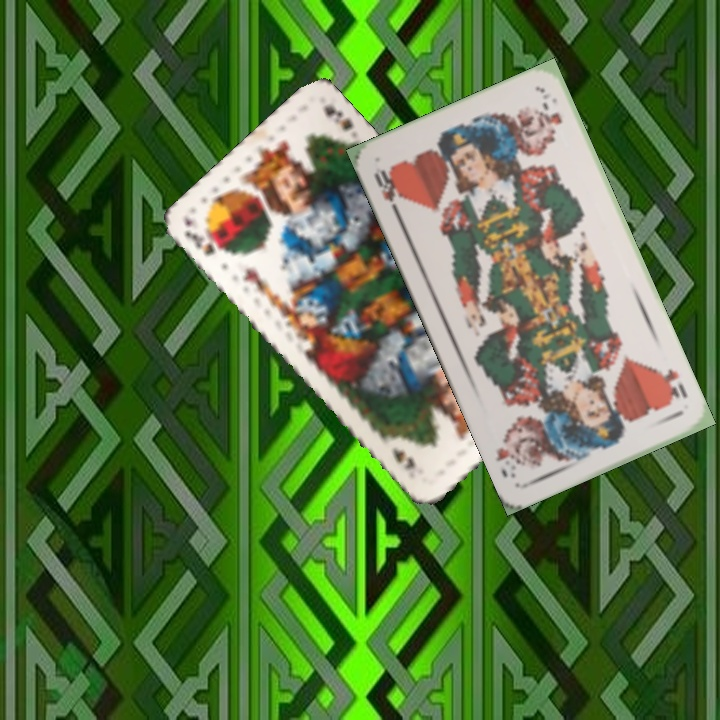HO: (370, 166, 403, 219), (652, 362, 691, 403)
SK: (181, 225, 219, 259)
